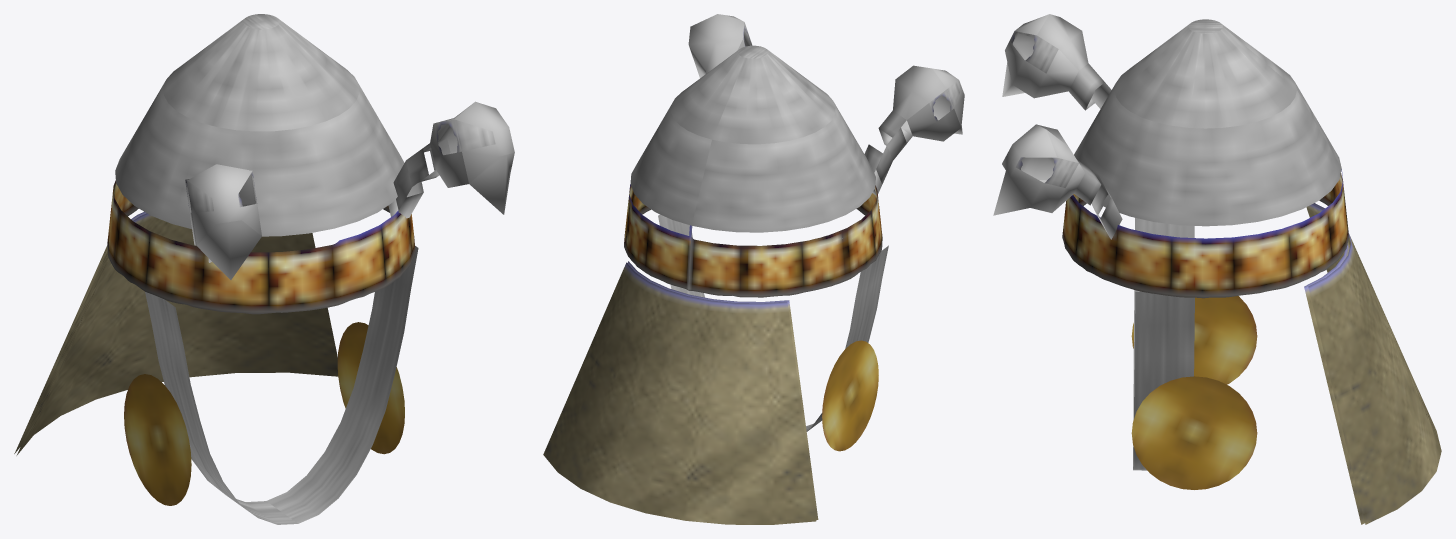
File: helmet_moch_balls_2.dae
3 views of the same model, side by side, from view 1: azimuth 30°, elevation 25°; view 2: azimuth 150°, elevation 25°; view 3: azimuth 270°, elevation 25° (orthographic). The views are drawn at different scales.
Parts seen in each view (by area): view 1: helmet_moch_balls_2; view 2: helmet_moch_balls_2; view 3: helmet_moch_balls_2.
Part boxes in pixels (x1=…): helmet_moch_balls_2: x1=14, y1=14, x2=514, y2=524; helmet_moch_balls_2: x1=543, y1=14, x2=964, y2=524; helmet_moch_balls_2: x1=993, y1=14, x2=1441, y2=524.
Size of the model in its own units: 0.6344 by 0.8151 by 0.882.
